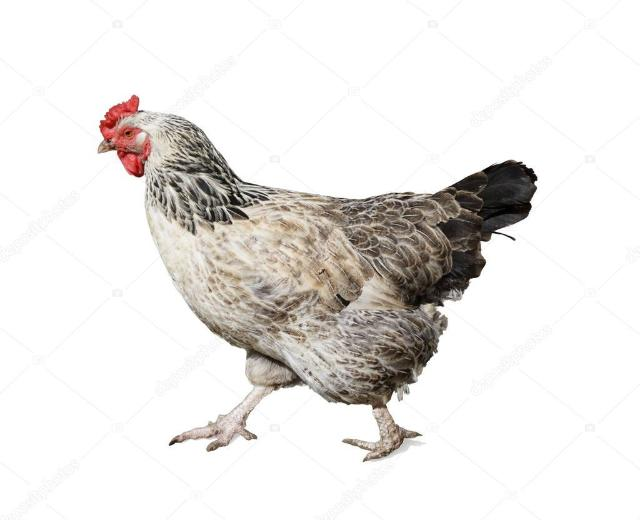Chicken: (96, 95, 537, 461)
